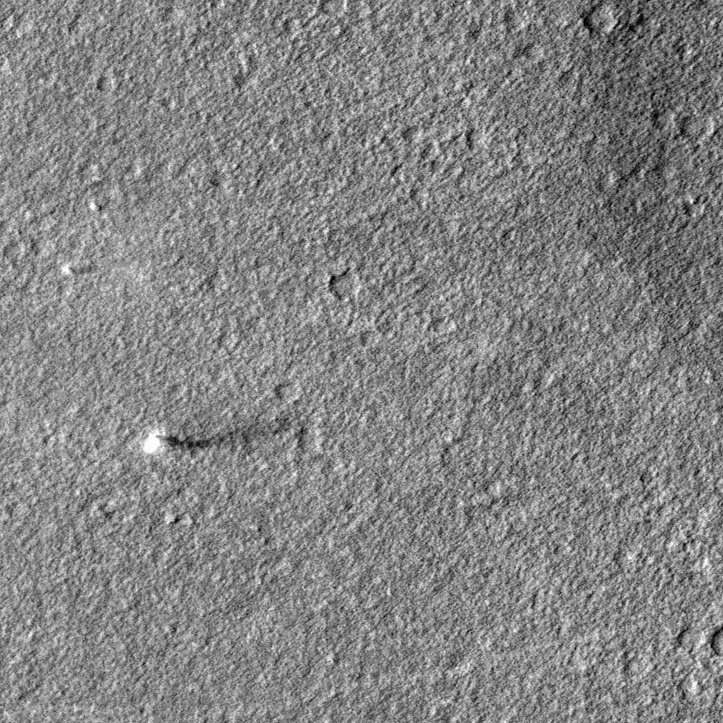dust_devil: (140, 415, 292, 456)
